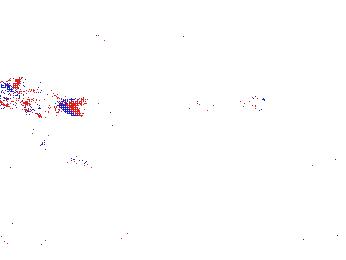red belly glassfish: (71, 153, 111, 173), (38, 132, 54, 153)
redtail glassfish: (177, 90, 269, 124), (3, 87, 85, 121)
